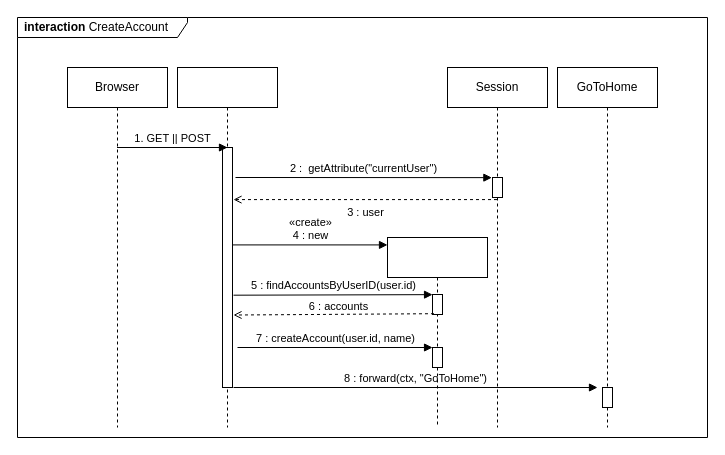
Image size: 725x455. Some labels were removed from this diagram. Here are the shapes that lost their labels. From the top down, the box of each, then its label:
(176, 66, 278, 428): CreateAccount
(386, 236, 488, 428): AccountDAO
